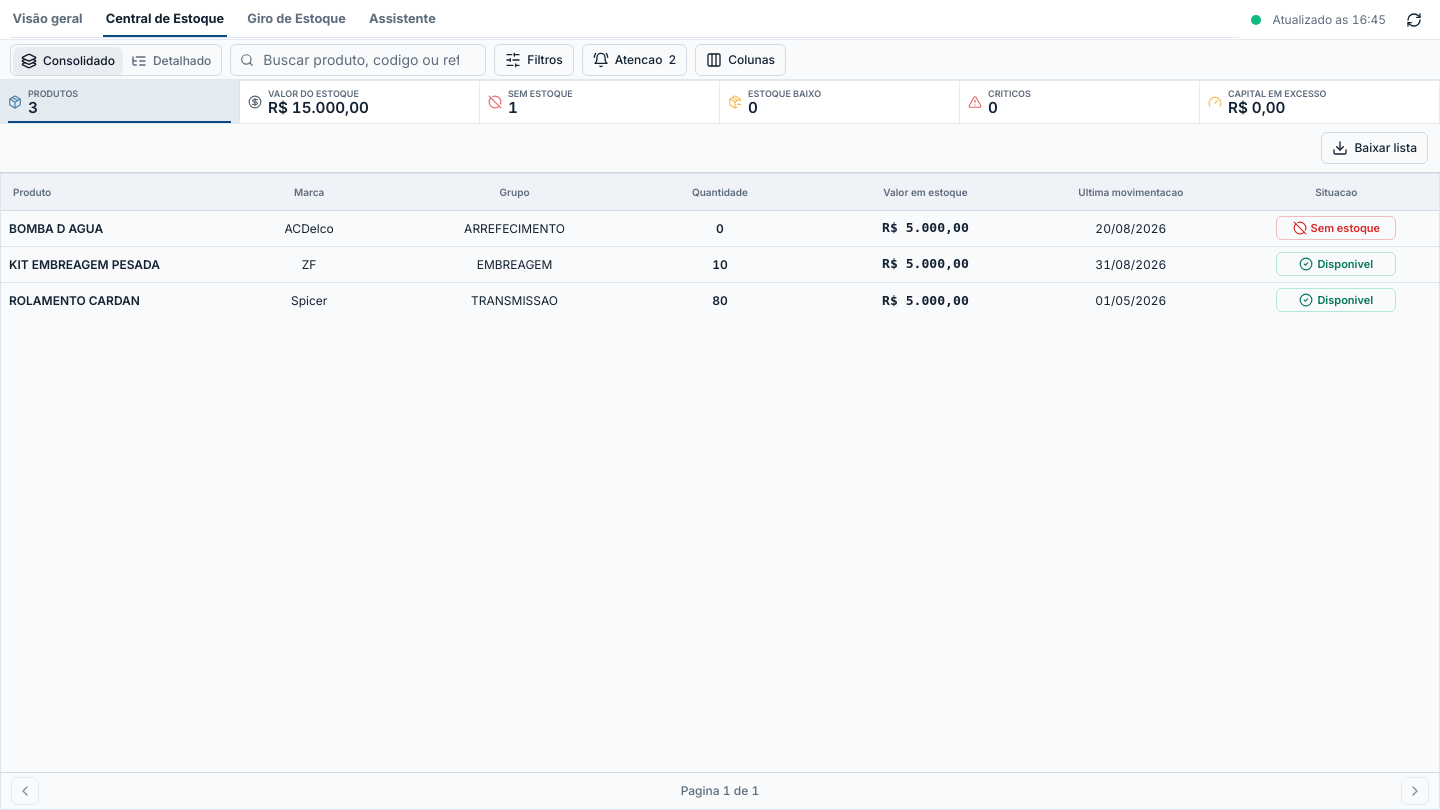
Test: EstoquePage › mostra carregamento ao alternar para a fonte detalhada sem apresentar estoque vazio
Click the button "Detalhado". click: (171, 60)
box: [123,46,219,74]
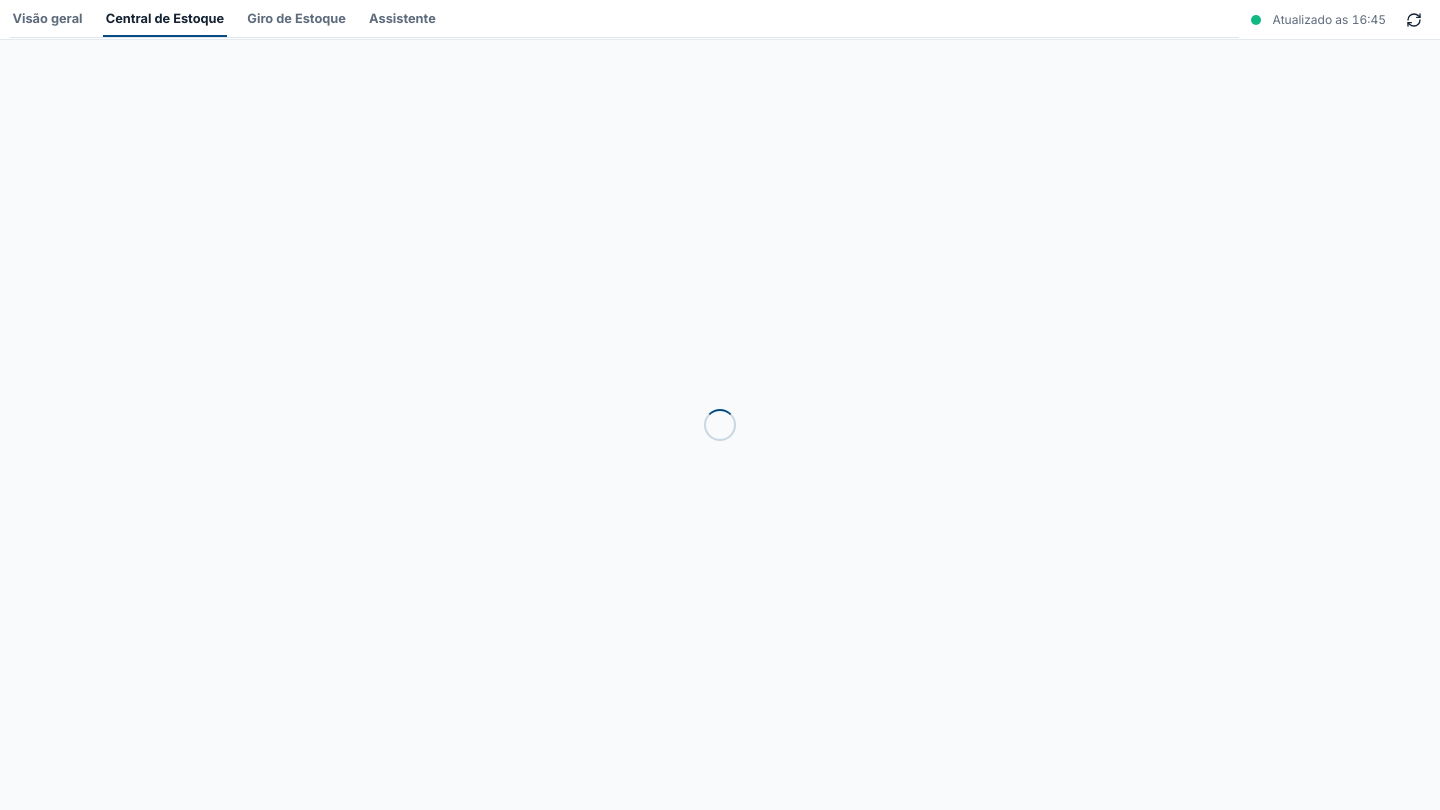
Now the message named "Carregando dados detalhados do estoque" is shown
